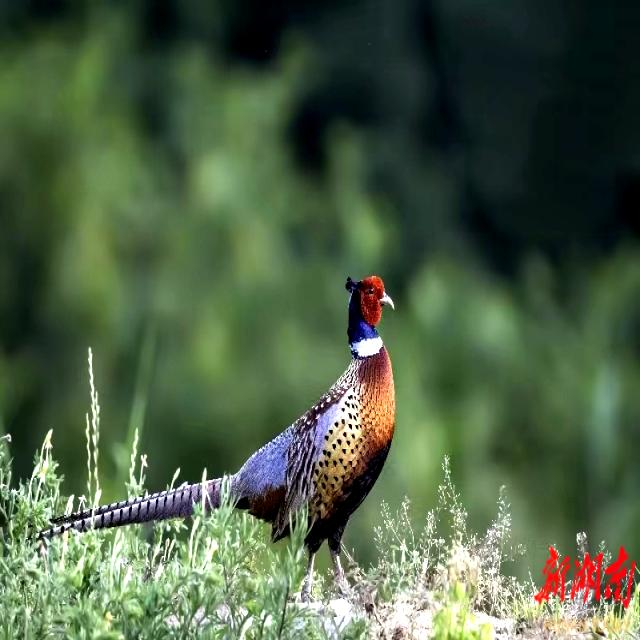Phasianus Colchicus: (28, 476, 229, 540)
